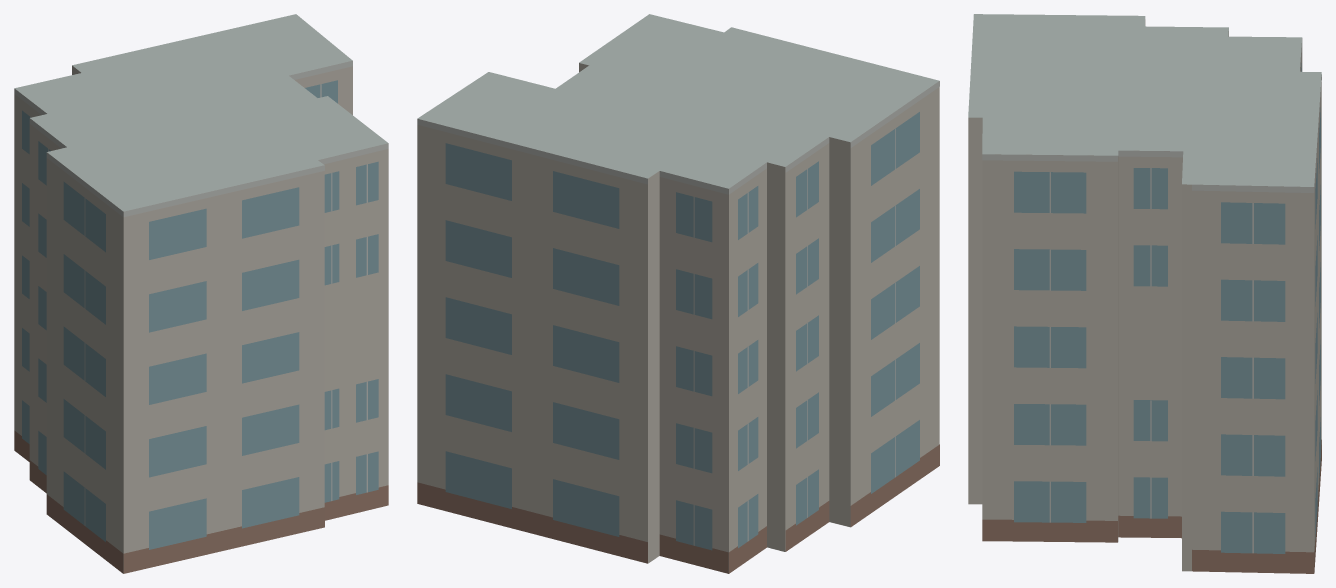
File: survey-upis-33019985.glb
The picture shows the model from 3 angles, left to right: view 1: azimuth 30°, elevation 25°; view 2: azimuth 150°, elevation 25°; view 3: azimuth 270°, elevation 25°; orthographic projection. The views are drawn at different scales.
Parts seen in each view (by area): view 1: survey-upis-33019985.tmp; view 2: survey-upis-33019985.tmp; view 3: survey-upis-33019985.tmp.
Part boxes in pixels (x1,y1,x2,y2): survey-upis-33019985.tmp: (14, 14, 388, 573); survey-upis-33019985.tmp: (417, 14, 939, 573); survey-upis-33019985.tmp: (968, 14, 1321, 573).
Bounding box in the file's own units: 15.07 × 15.7 × 13.02.
